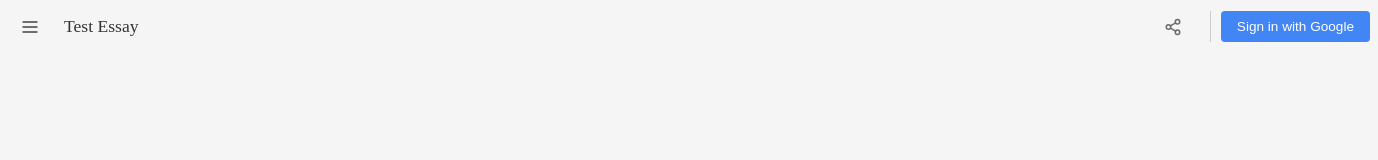
Test case: Header › Title editing › shows input when title is clicked
Click the button "Test Essay": (101, 26) x1=52 y1=8 x2=150 y2=45
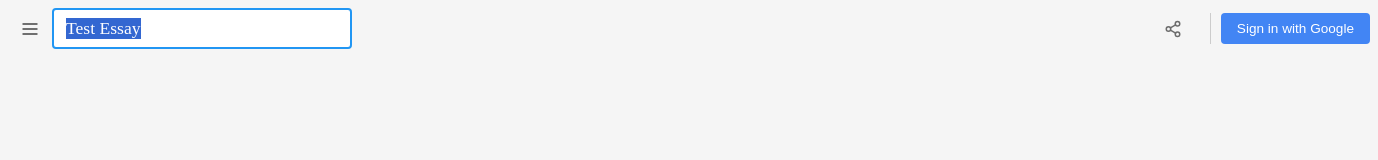
Check: the field with placeholder "Essay title..." is shown, box x1=52 y1=8 x2=352 y2=49
